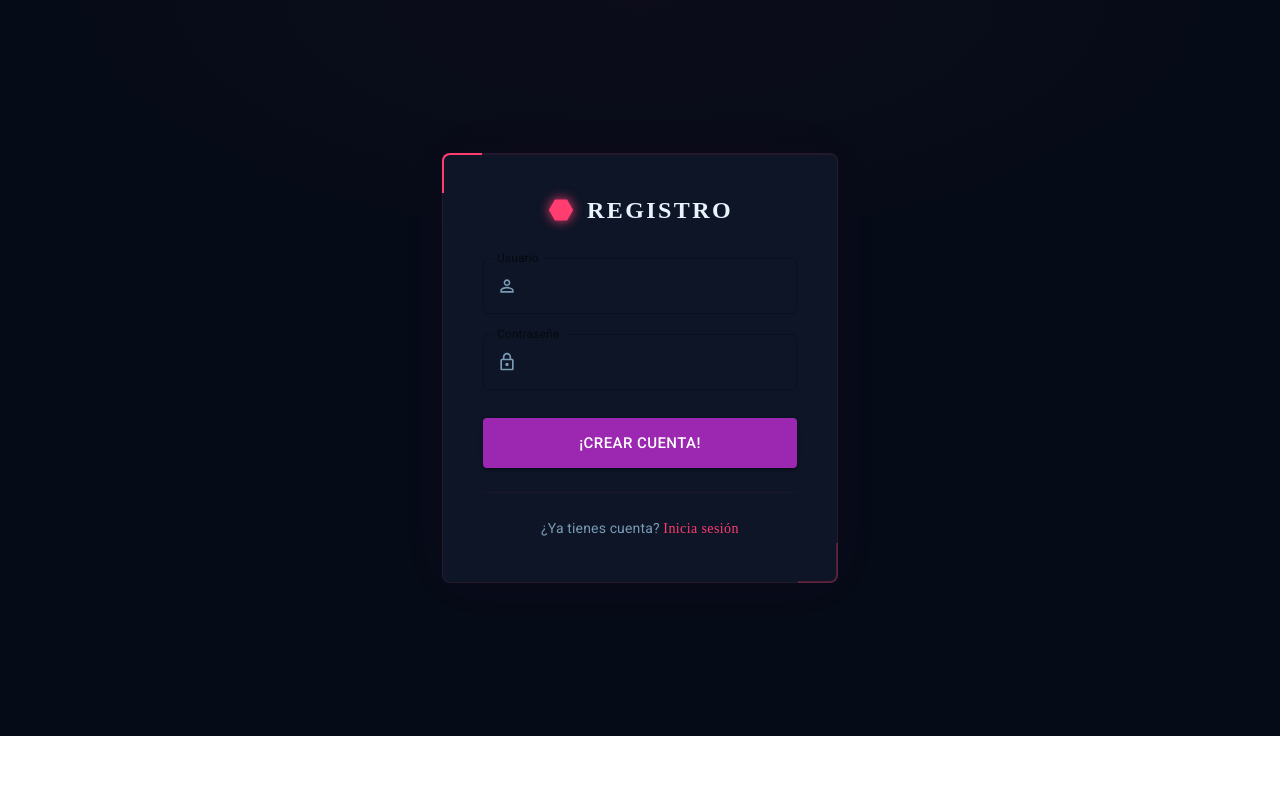
Scenario: RegisterForm › Se intenta registrar sin poner nombre de usuario y muestra error
The image size is (1280, 800).
# El botón del componente dice "¡Crear cuenta!"
Click the button "¡Crear cuenta!" at [640, 443], box left=483, top=418, right=797, bottom=468
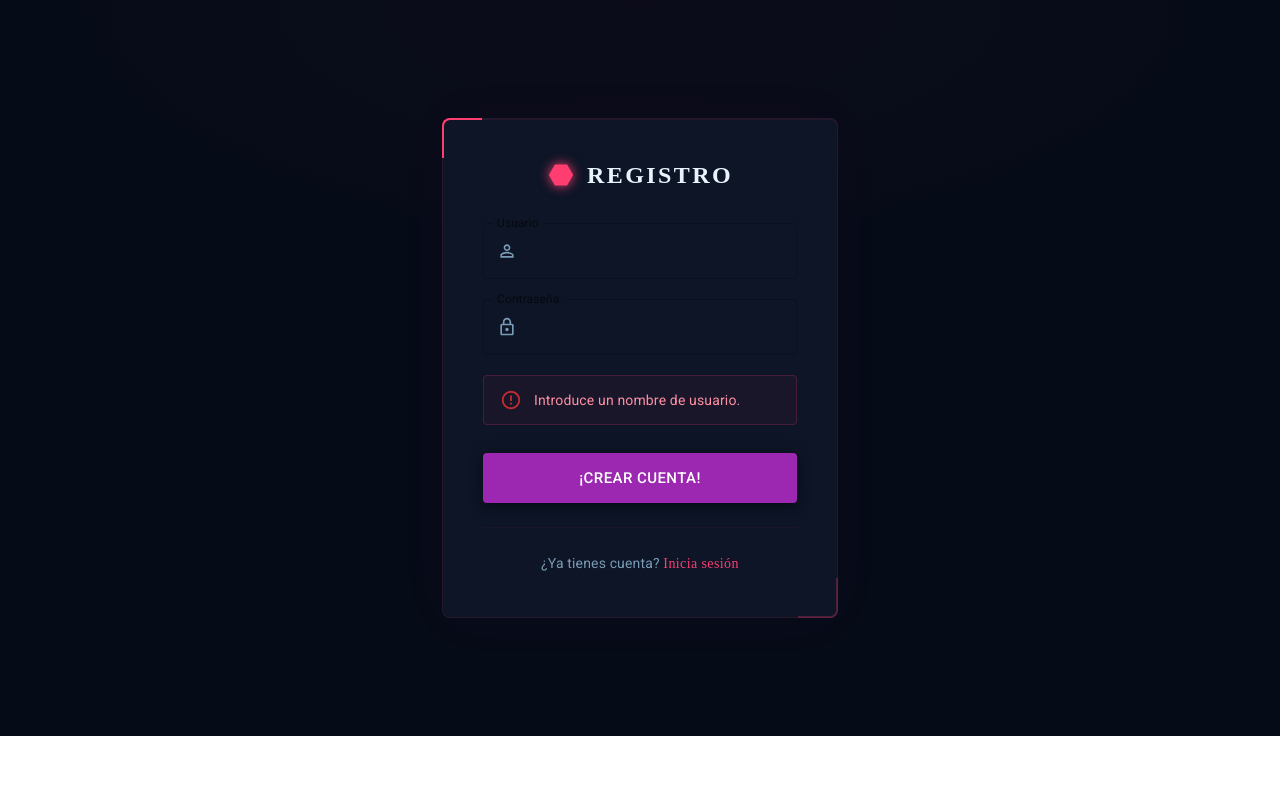
Result: the text "Introduce un nombre de usuario." is shown at left=534, top=392, right=740, bottom=408
